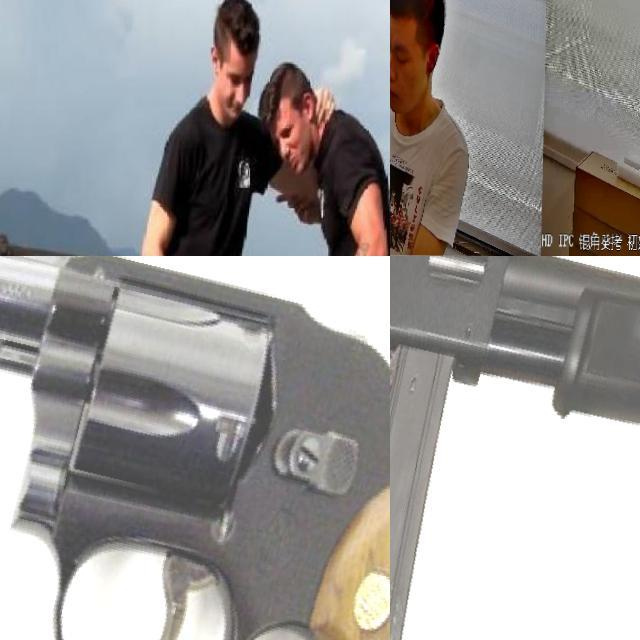gun-knife-thesis - v11 Yolov5 augmented: (0, 256, 390, 640), (390, 256, 640, 640), (390, 168, 426, 256)
